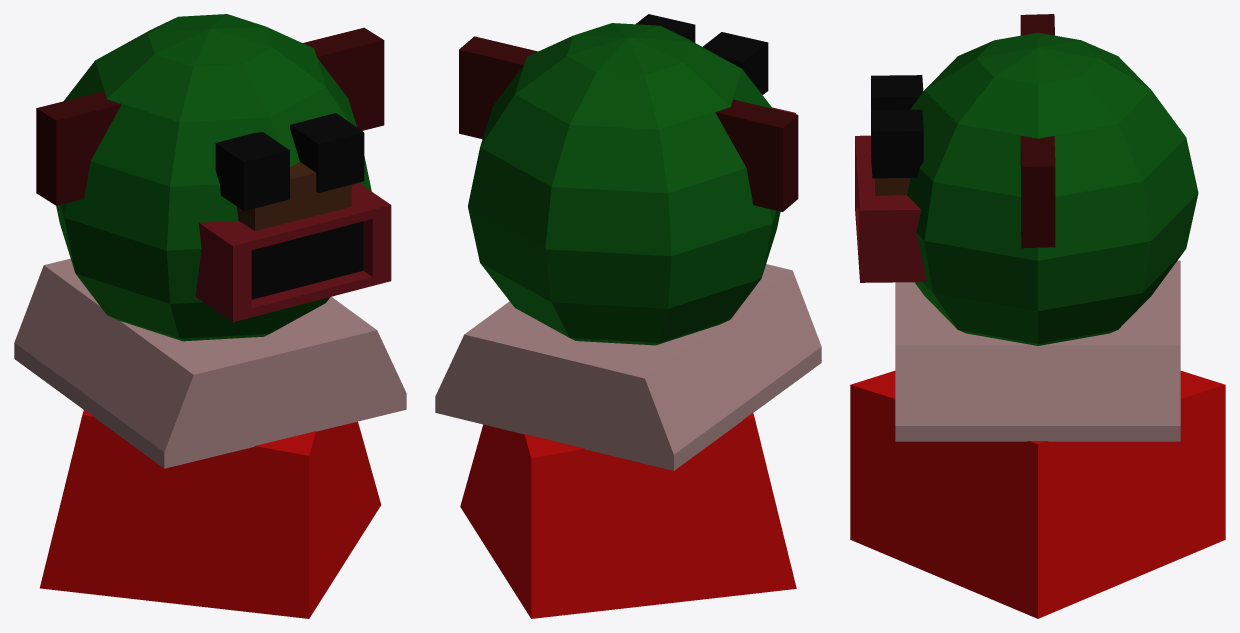
File: Enemy_With_Materials.glb
3 views of the same model, side by side, from view 1: azimuth 30°, elevation 25°; view 2: azimuth 150°, elevation 25°; view 3: azimuth 270°, elevation 25° (orthographic). The views are drawn at different scales.
Visible parts, largest first — view 1: Head1, Legs1, Body1, Mouth, Left_Ear, Left_Eye, Left_Ear1, Left_Eye1, Nose; view 2: Head1, Legs1, Body1, Left_Ear, Left_Ear1, Left_Eye, Left_Eye1; view 3: Head1, Legs1, Body1, Mouth, Left_Ear1, Left_Eye1, Left_Eye, Left_Ear, Nose.
Boxes of the visible parts, bbox=[...] form: Head1: bbox=[56, 14, 371, 341]; Legs1: bbox=[40, 409, 381, 618]; Body1: bbox=[14, 258, 406, 468]; Mouth: bbox=[195, 182, 391, 322]; Left_Ear: bbox=[36, 91, 121, 205]; Left_Eye: bbox=[215, 132, 289, 211]; Left_Ear1: bbox=[303, 27, 384, 130]; Left_Eye1: bbox=[290, 113, 364, 192]; Nose: bbox=[237, 162, 351, 230]; Head1: bbox=[468, 23, 780, 345]; Legs1: bbox=[460, 412, 796, 618]; Body1: bbox=[435, 264, 821, 470]; Left_Ear: bbox=[715, 99, 798, 211]; Left_Ear1: bbox=[459, 36, 537, 139]; Left_Eye: bbox=[703, 32, 768, 94]; Left_Eye1: bbox=[636, 14, 695, 42]; Head1: bbox=[907, 32, 1198, 345]; Legs1: bbox=[850, 370, 1225, 618]; Body1: bbox=[895, 260, 1180, 441]; Mouth: bbox=[855, 135, 926, 282]; Left_Ear1: bbox=[1020, 136, 1055, 248]; Left_Eye1: bbox=[871, 109, 923, 178]; Left_Eye: bbox=[871, 75, 923, 109]; Left_Ear: bbox=[1020, 14, 1054, 35]; Nose: bbox=[874, 178, 910, 195].
Size of the model in its own units: 0.08 by 0.1159 by 0.0801.
